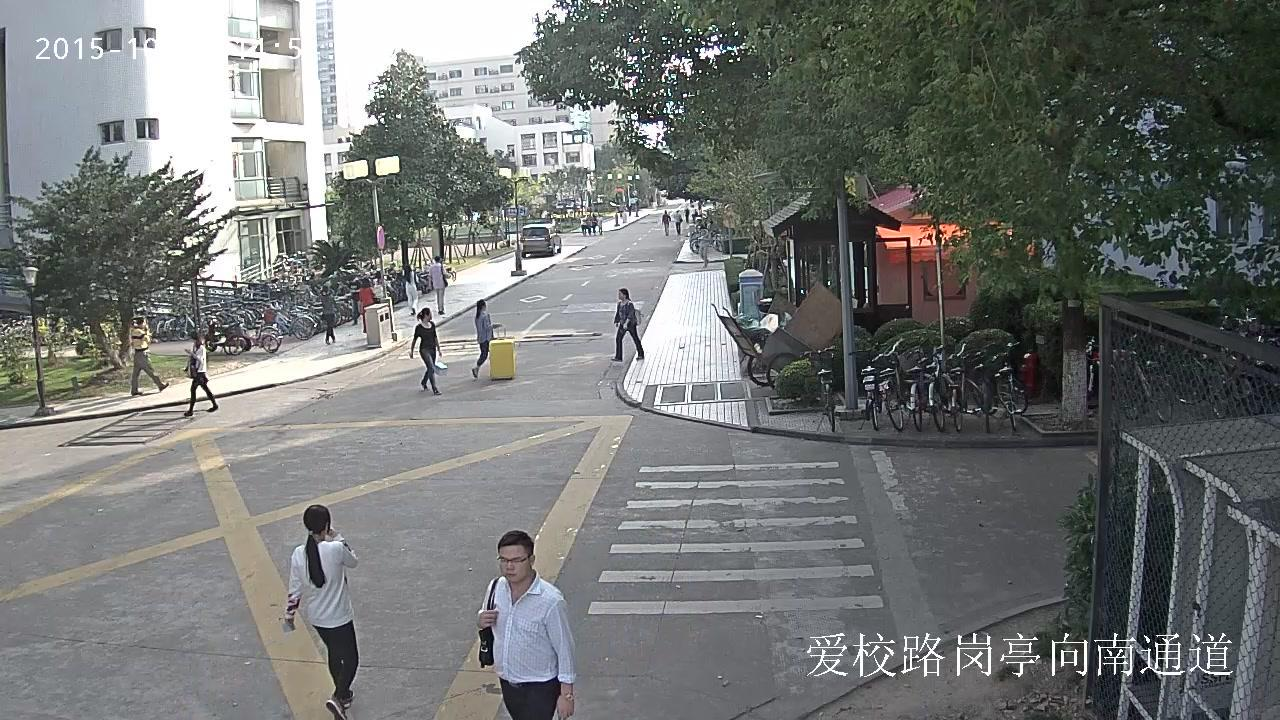person: (475, 530, 576, 720), (281, 503, 359, 720), (470, 298, 515, 381), (131, 317, 169, 397), (183, 330, 217, 417), (409, 307, 442, 396), (470, 298, 503, 382), (610, 288, 645, 363), (428, 255, 451, 315), (317, 285, 340, 344), (400, 262, 421, 316), (360, 275, 377, 334), (661, 209, 671, 236), (674, 209, 683, 234), (584, 214, 592, 235), (597, 213, 603, 235), (591, 213, 596, 235), (581, 215, 586, 235)
